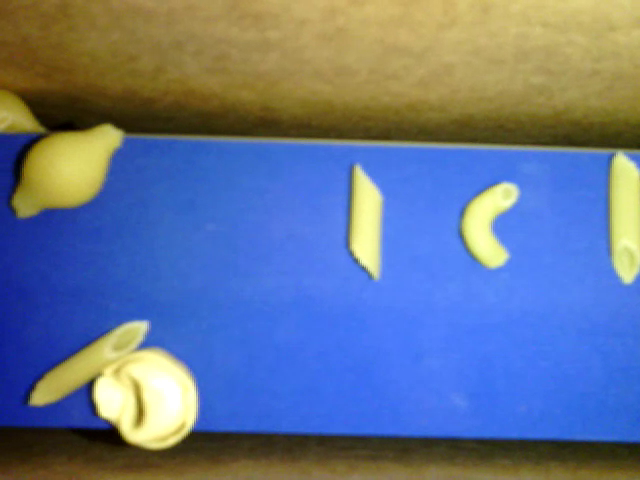elbow: (460, 178, 520, 271), (460, 178, 462, 180)
penne: (22, 315, 157, 407), (604, 142, 639, 285), (348, 157, 384, 292)
shell: (12, 117, 126, 221), (3, 87, 50, 135)
tortellini: (90, 347, 205, 446)
